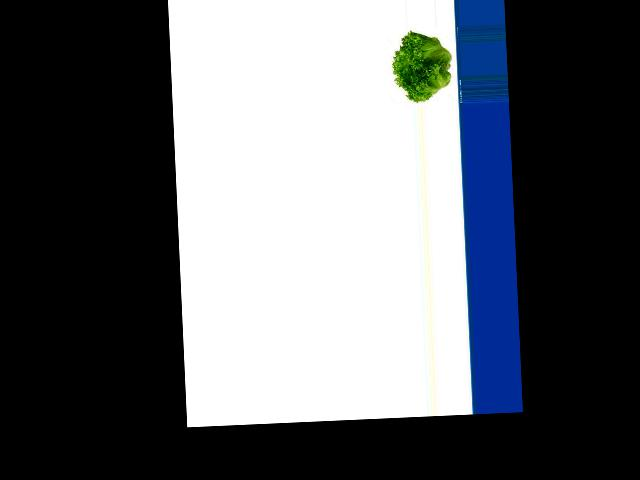lettuce: (389, 31, 457, 103)
